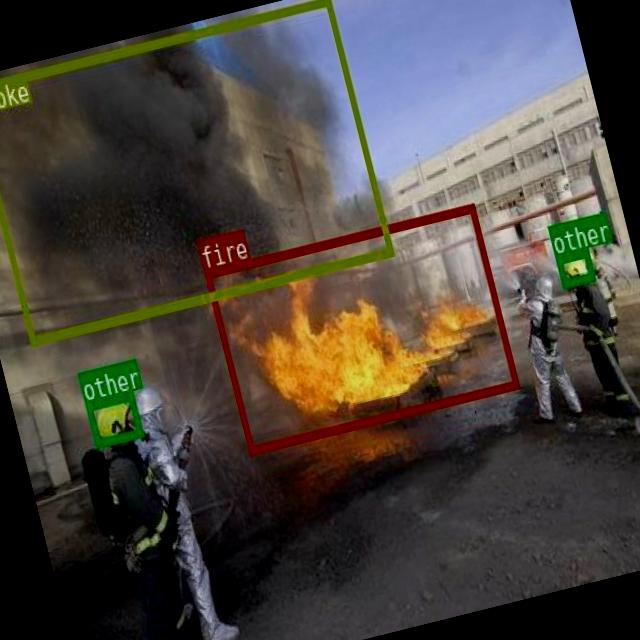fire: (202, 202, 519, 454)
smoke: (0, 0, 393, 345)
